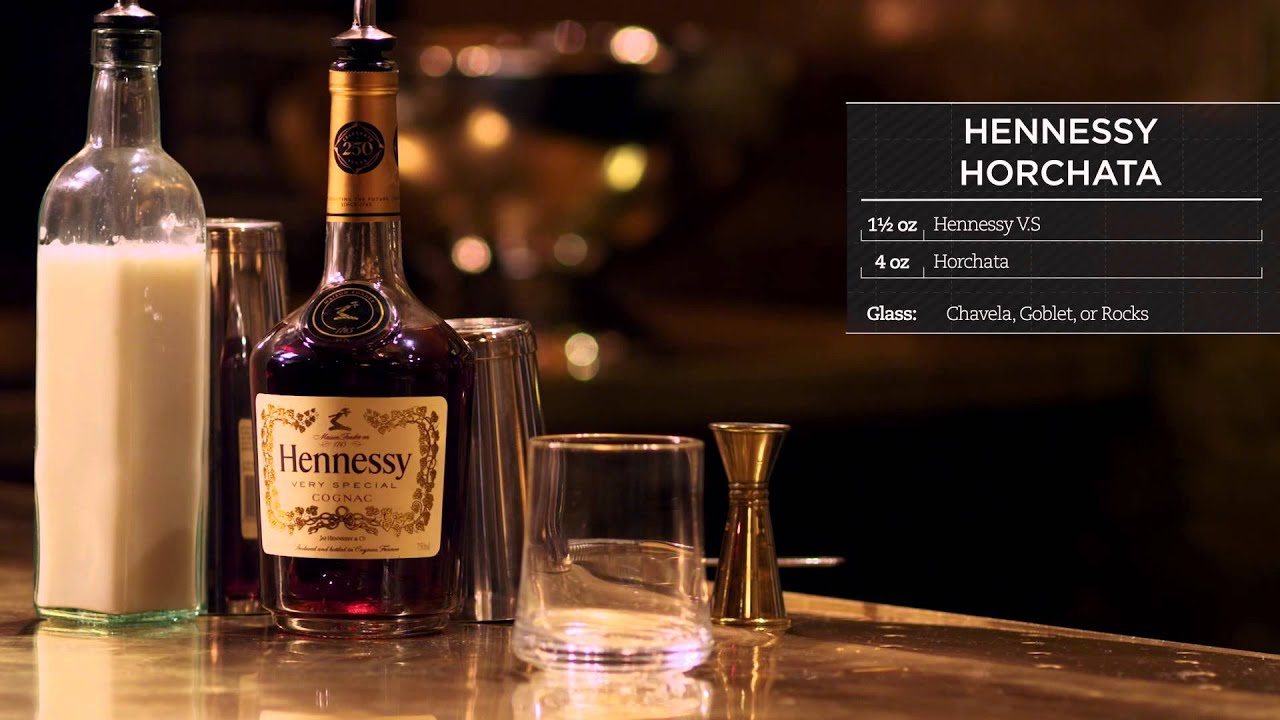Hennessy: (334, 31, 520, 646)
